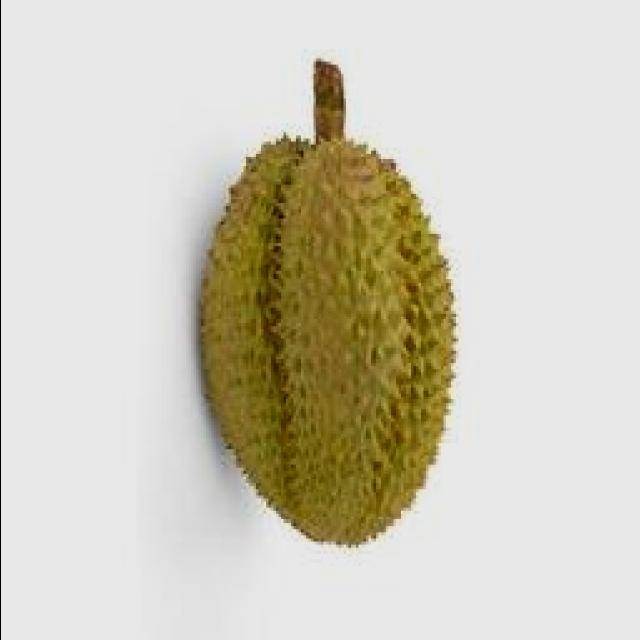agrume: (160, 114, 482, 551)
